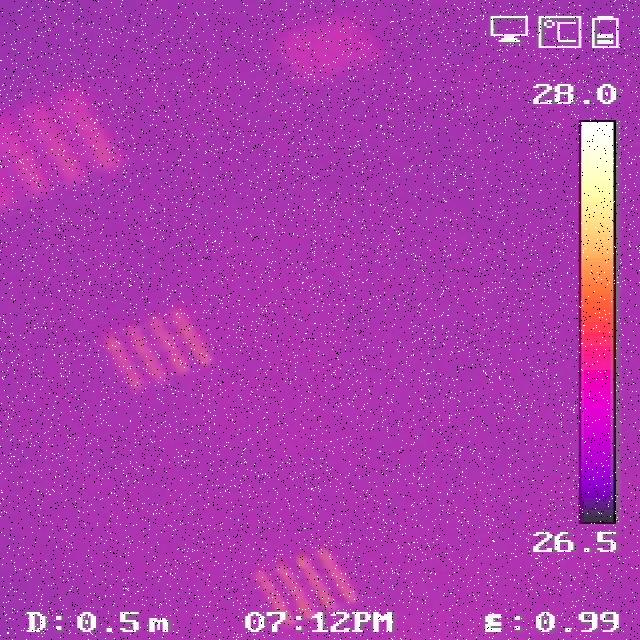Distinguishable 4-bar target: (99, 311, 209, 386), (252, 549, 364, 619)
Indistinguishable 4-bar target: (277, 20, 384, 79)
threshold 4-bar target: (0, 91, 120, 215)
